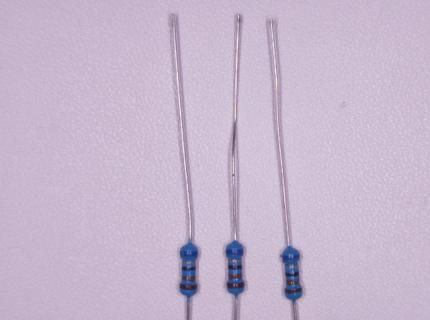Black band: (228, 265, 242, 271), (286, 272, 300, 277), (182, 267, 196, 271)
Blue band: (282, 254, 300, 261), (181, 251, 198, 257), (225, 250, 244, 255)
Brown band: (285, 287, 303, 294), (227, 282, 245, 289), (180, 284, 198, 290)
Grey band: (285, 265, 299, 270), (182, 261, 196, 266), (228, 259, 242, 263)
Orange band: (286, 280, 300, 286), (229, 274, 242, 280), (182, 275, 195, 281)
